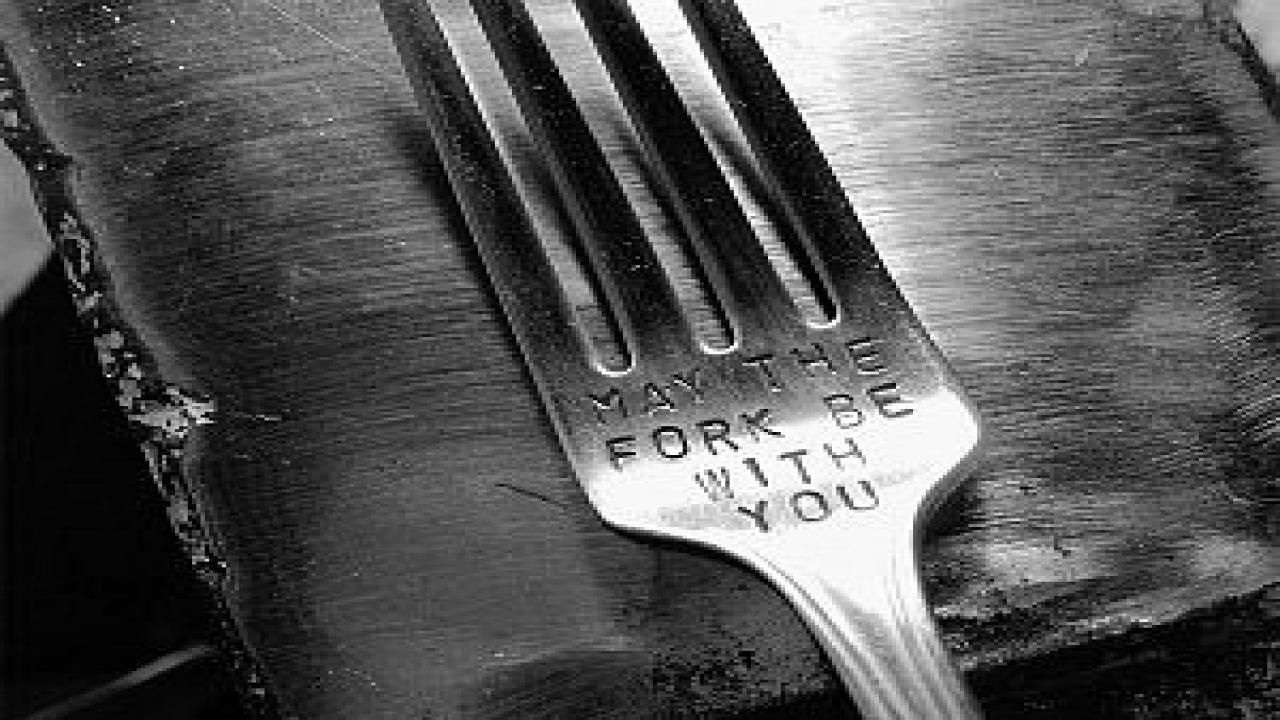fork: (358, 0, 1020, 717)
